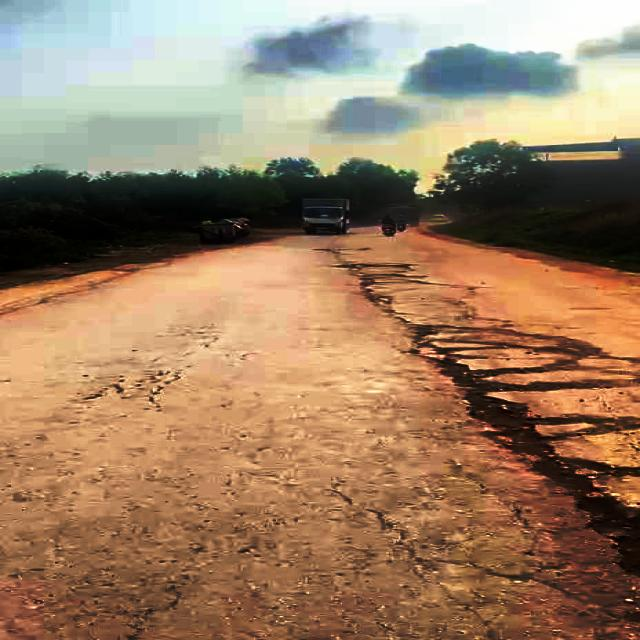pothole: (404, 328, 628, 453), (517, 445, 640, 586)
